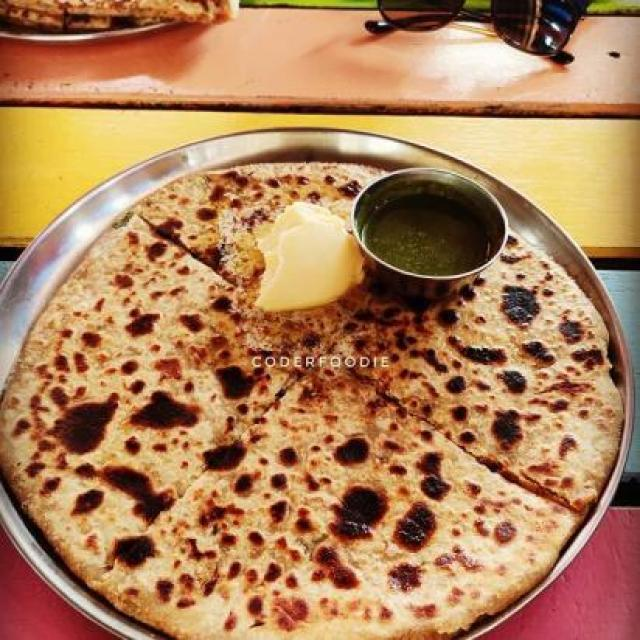alooparatha-chapati: (64, 175, 609, 610)
